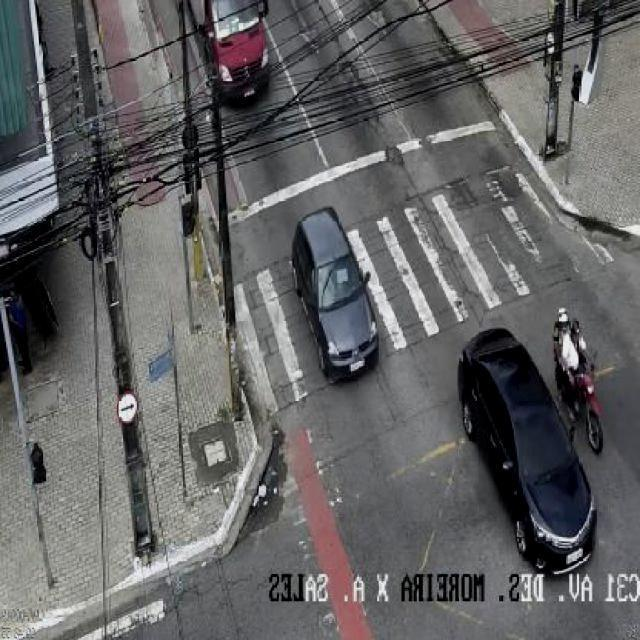Car: (462, 325, 598, 575), (294, 206, 385, 382), (190, 0, 274, 106)
Cycle: (548, 302, 608, 454)
